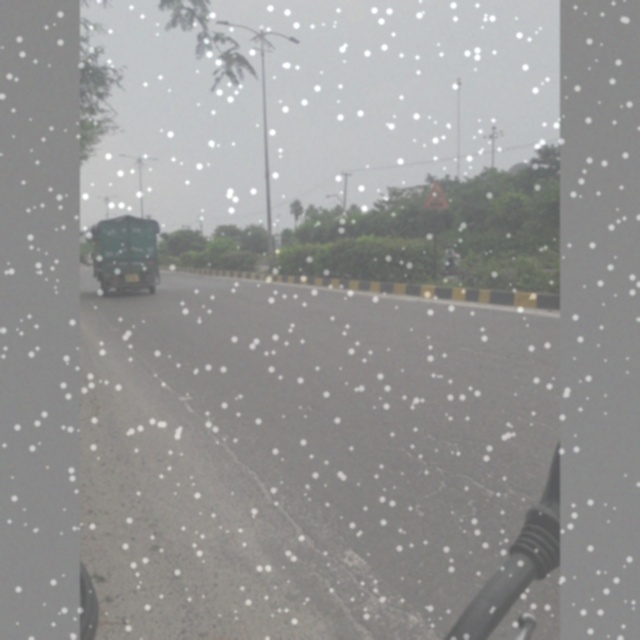Hump_or_Rough_Road: (419, 177, 453, 215)
